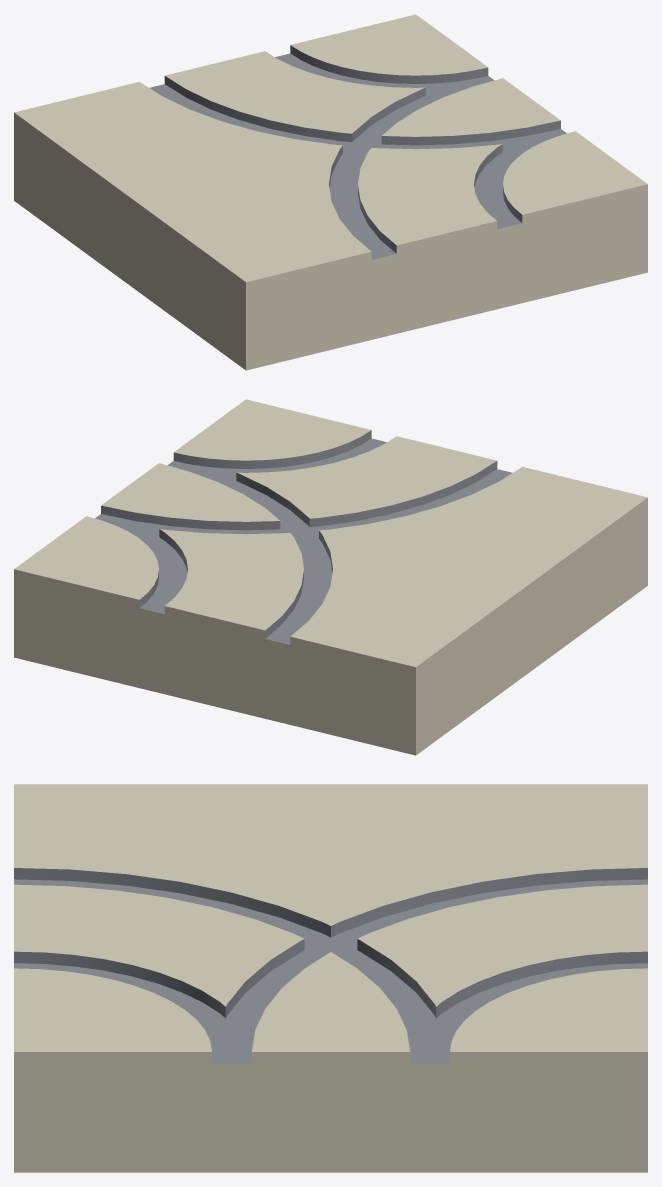
Rendered from roadTile_102.fbx.
3 renders of one model, top to bottom at view 1: azimuth 30°, elevation 25°; view 2: azimuth 150°, elevation 25°; view 3: azimuth 270°, elevation 25°, orthographic. The views are drawn at different scales.
Parts seen in each view (by area): view 1: roadTile_102; view 2: roadTile_102; view 3: roadTile_102.
Boxes of the visible parts, x1,y1,x2,y2 form: roadTile_102: (14, 14, 647, 370); roadTile_102: (14, 399, 647, 755); roadTile_102: (14, 784, 647, 1172).
Bounding box in the file's own units: 118 × 24.8 × 118.
